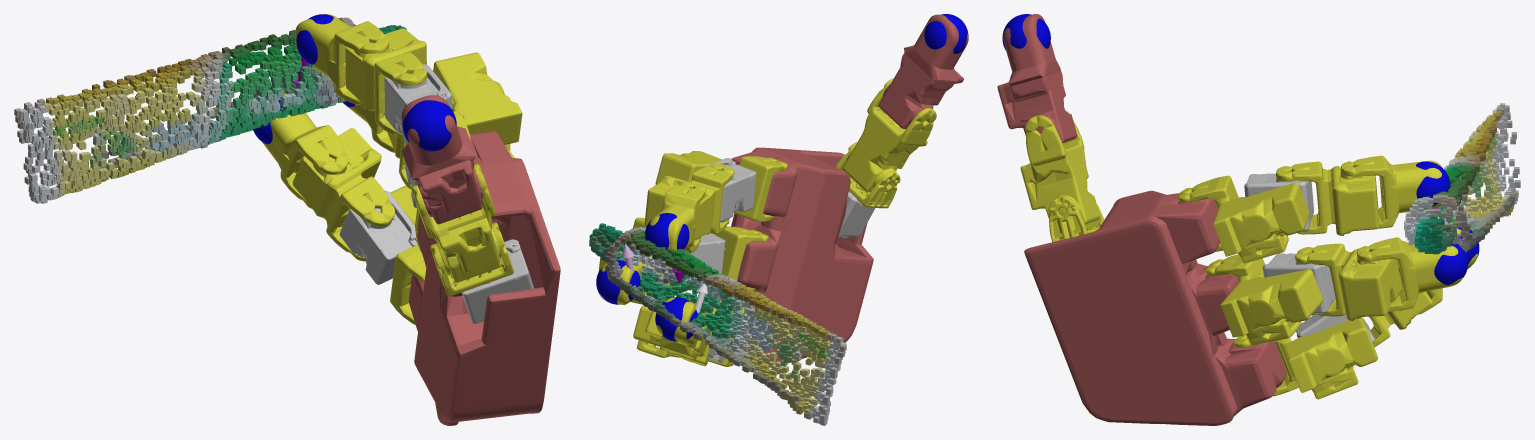
Rendered from hand_opt_res_obj.glb.
The picture shows the model from 3 angles, left to right: view 1: azimuth 30°, elevation 25°; view 2: azimuth 150°, elevation 25°; view 3: azimuth 270°, elevation 25°; orthographic projection. The views are drawn at different scales.
Visible parts, largest first — view 1: world; view 2: world; view 3: world.
Boxes of the visible parts, left/top/right/bottom form: world: left=14, top=14, right=560, bottom=425; world: left=589, top=14, right=968, bottom=425; world: left=997, top=14, right=1520, bottom=425.
Size of the model in its own units: 0.2155 by 0.2164 by 0.2895.
